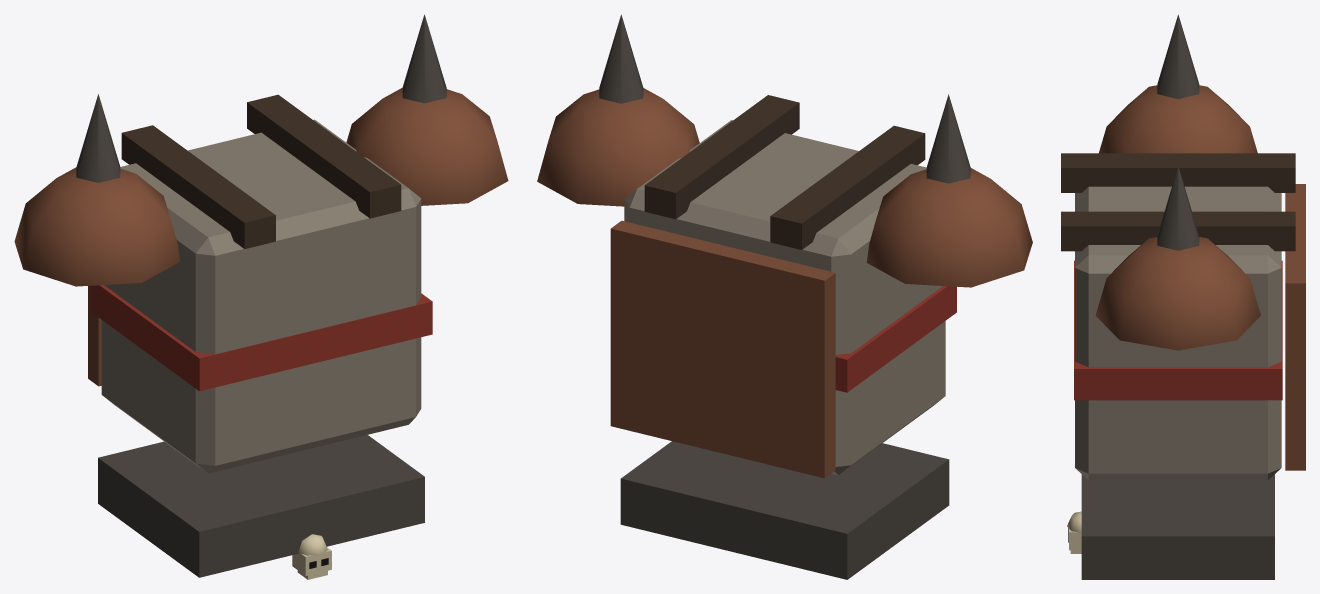
3 views of the same model, side by side, from view 1: azimuth 30°, elevation 25°; view 2: azimuth 150°, elevation 25°; view 3: azimuth 270°, elevation 25° (orthographic). The views are drawn at different scales.
Visible parts, largest first — view 1: raider_armor_steel; view 2: raider_armor_steel; view 3: raider_armor_steel.
Part boxes in pixels (<box>): raider_armor_steel: <box>14,14,508,579</box>; raider_armor_steel: <box>537,14,1032,579</box>; raider_armor_steel: <box>1061,14,1305,579</box>.
Bounding box in the file's own units: 0.76 × 0.735 × 0.355.
